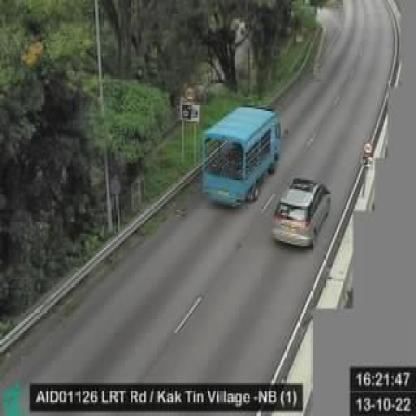Car: (272, 176, 330, 251)
Truck: (202, 102, 283, 210)
